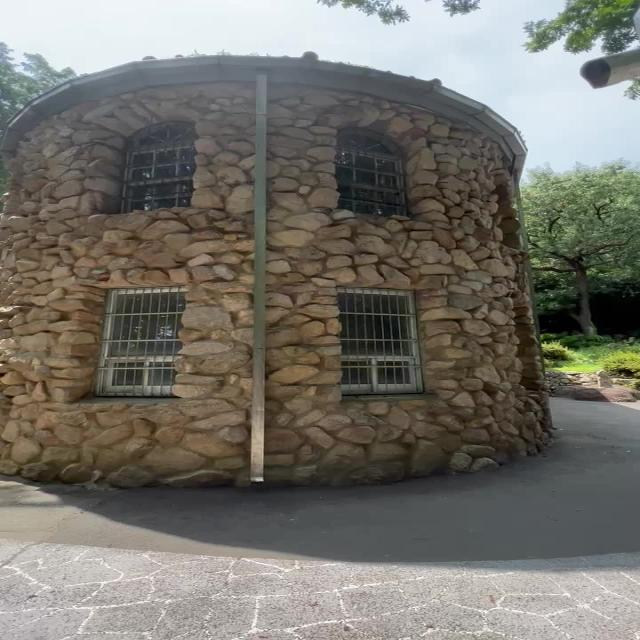building: (21, 43, 555, 484)
